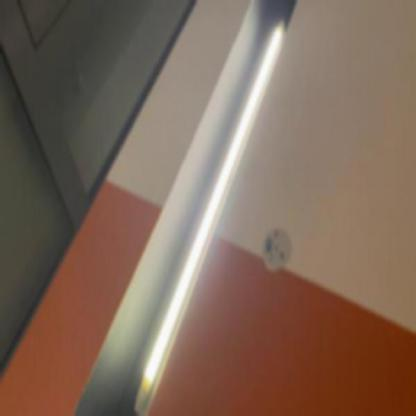light_on: (129, 11, 294, 415)
